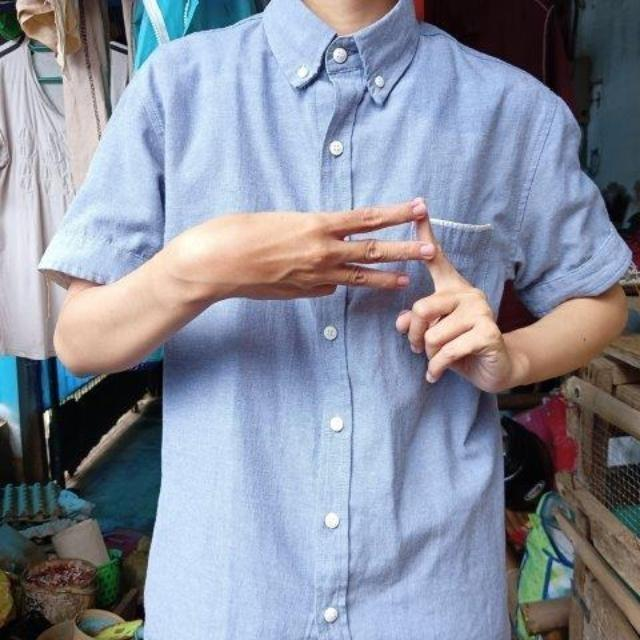B: (308, 188, 495, 376)
